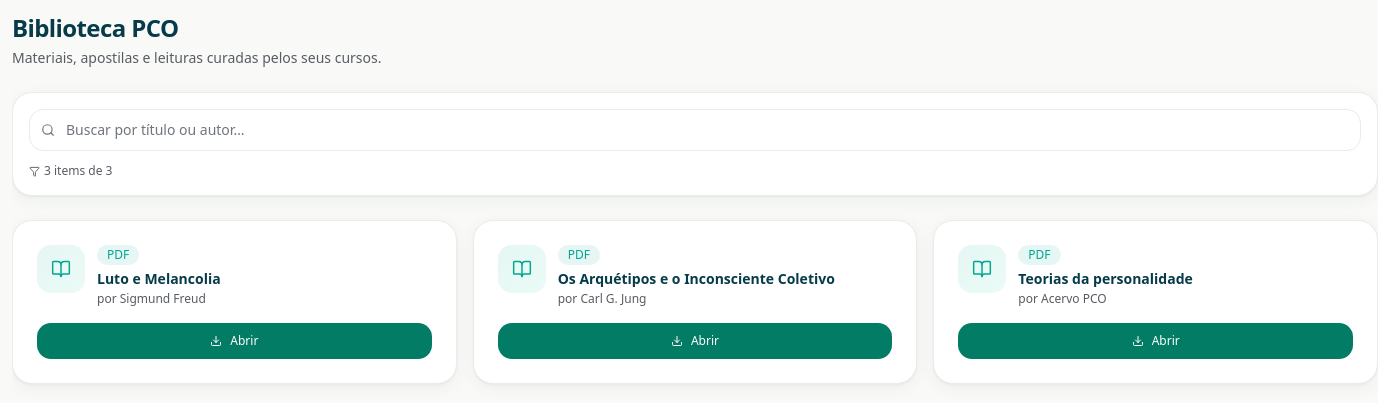
Test case: a busca acha o que 108 cartões escondem › acha pelo AUTOR — que é a segunda coisa que alguém sabe de um livro
In the search field: [695, 130] box top-left (29, 109), bottom-right (1361, 151), type "jung"
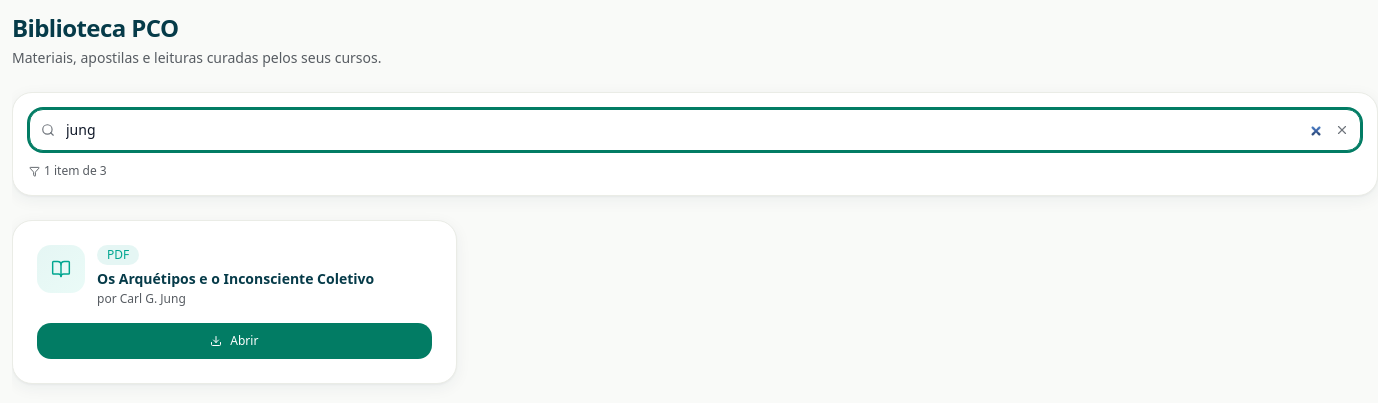
Expected: the heading "Os Arquétipos e o Inconsciente Coletivo" is shown, top-left (97, 269), bottom-right (374, 288)
Expected: the heading "Luto e Melancolia" is gone
